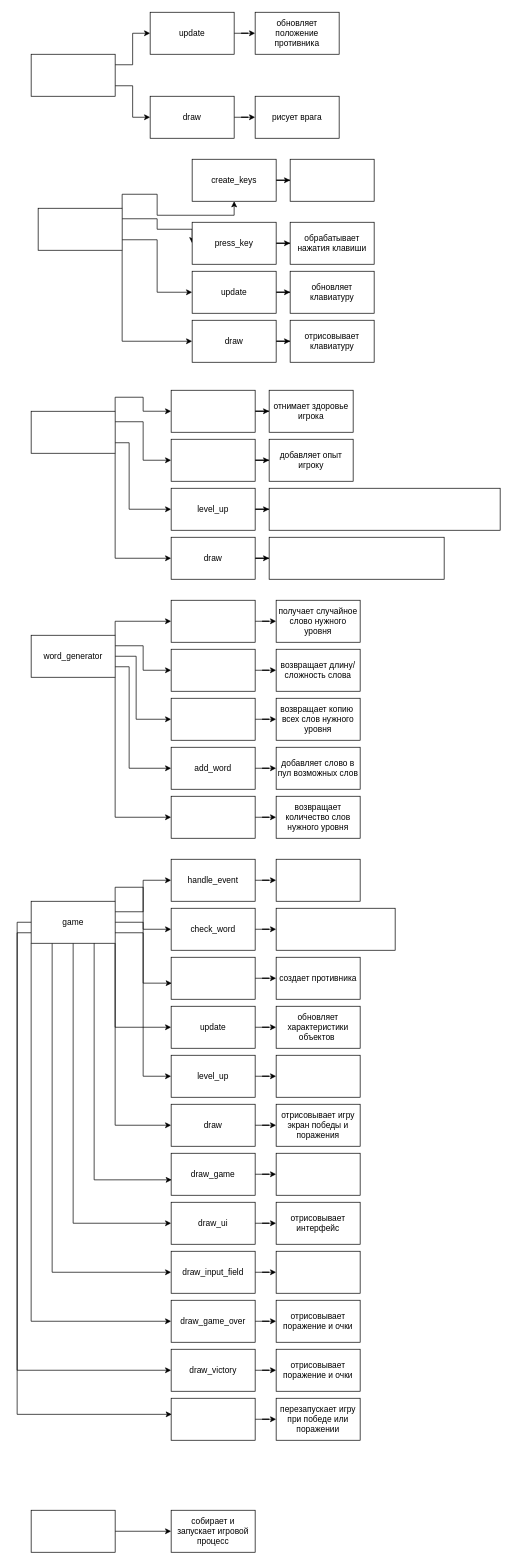
This 512x1565 diagram has some shape labels left out. Each missing label, with the centre of its shape:
enemy: the point at 72,75
gain_xp: the point at 212,460
get_level_count: the point at 212,817
get_random_word: the point at 212,621
get_word_dificulty: the point at 212,670
get_words_by_level: the point at 212,719
keyboard: the point at 79,229
main: the point at 72,1531
player: the point at 72,432
reset_game: the point at 212,1419
spawn_enemy: the point at 212,978
take_damage: the point at 212,411
визуализирует клавиатуру: the point at 331,180
вызывает увеличение уровня и сложности: the point at 317,1076
обрабатывает победу поражение рестарт и кнопки: the point at 317,880
отрисовывает игрока и его характеристики: the point at 356,558
отрисовывает игру: the point at 317,1174
отрисовывает поле ввода: the point at 317,1272
проверяет введенное слово убивает врага если верно и очищает поле ввода: the point at 335,929
увеличивает уровень увеличивает макс здоровье и восстанавливает здоровье: the point at 384,509
